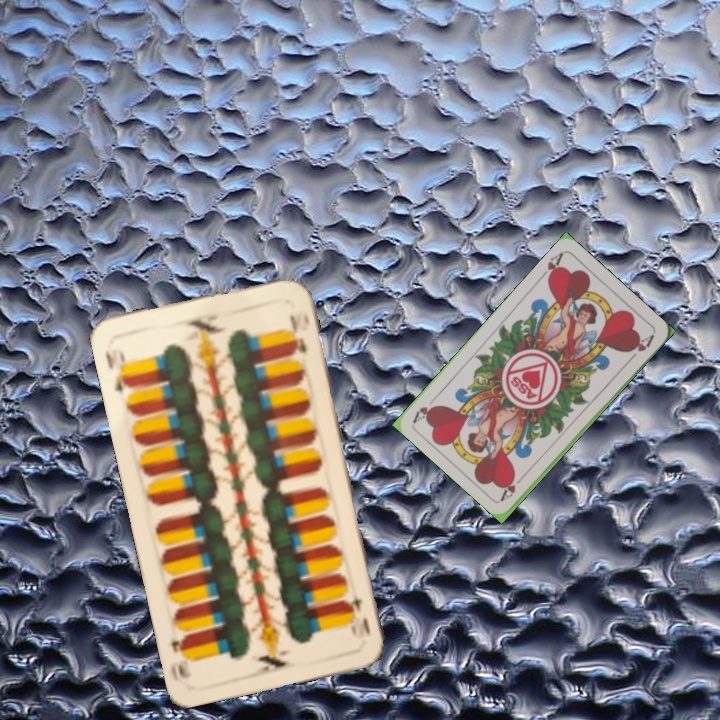E10: (101, 344, 135, 397), (344, 585, 374, 639)
HA: (535, 248, 566, 285), (497, 469, 529, 503)
